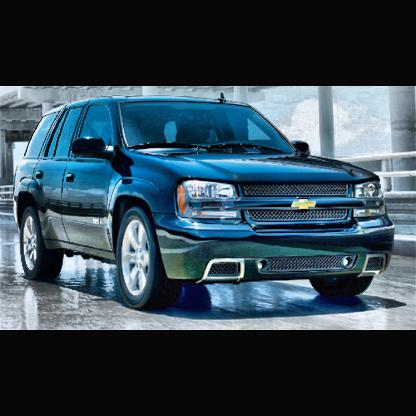Chevrolet TrailBlazer SS 2009: (12, 92, 398, 312)
